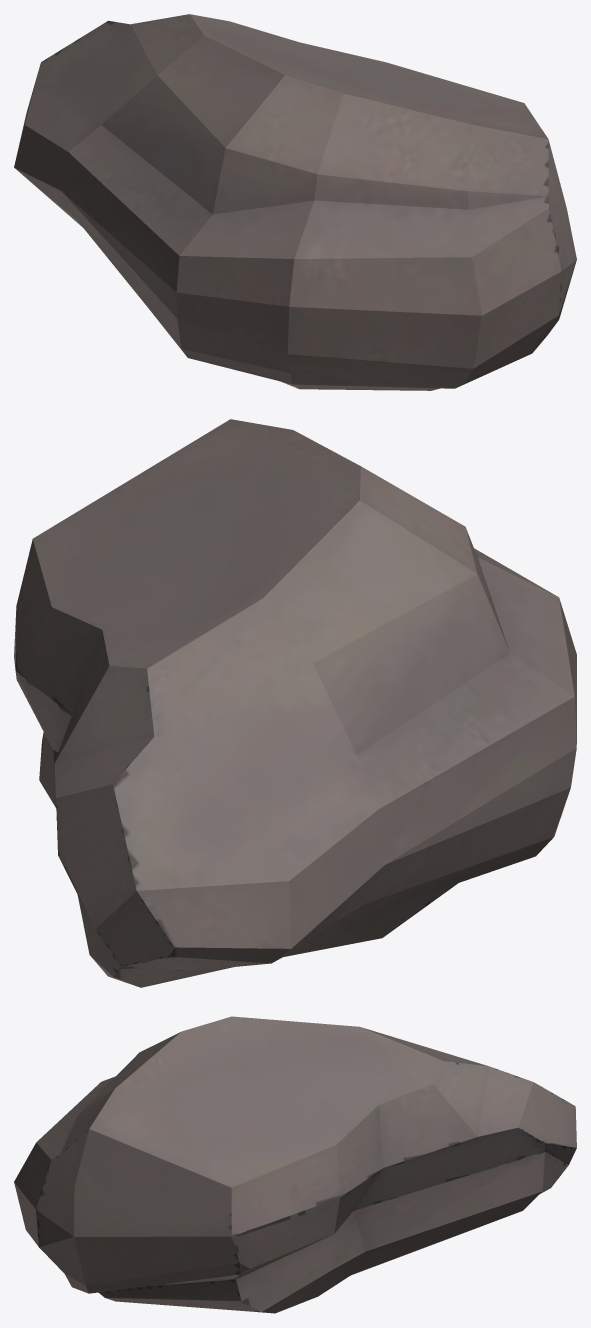
3 renders of one model, top to bottom at view 1: azimuth 30°, elevation 25°; view 2: azimuth 150°, elevation 25°; view 3: azimuth 270°, elevation 25°, orthographic. The views are drawn at different scales.
Visible parts, largest first — view 1: body0_model0_lod0_mesh0; view 2: body0_model0_lod0_mesh0; view 3: body0_model0_lod0_mesh0.
Boxes of the visible parts, <box> form: body0_model0_lod0_mesh0: <box>14,14,576,390</box>; body0_model0_lod0_mesh0: <box>14,419,576,987</box>; body0_model0_lod0_mesh0: <box>14,1016,576,1313</box>.
Size of the model in its own units: 83.14 by 57.52 by 125.
Materials: 1 (1 with a texture image).
